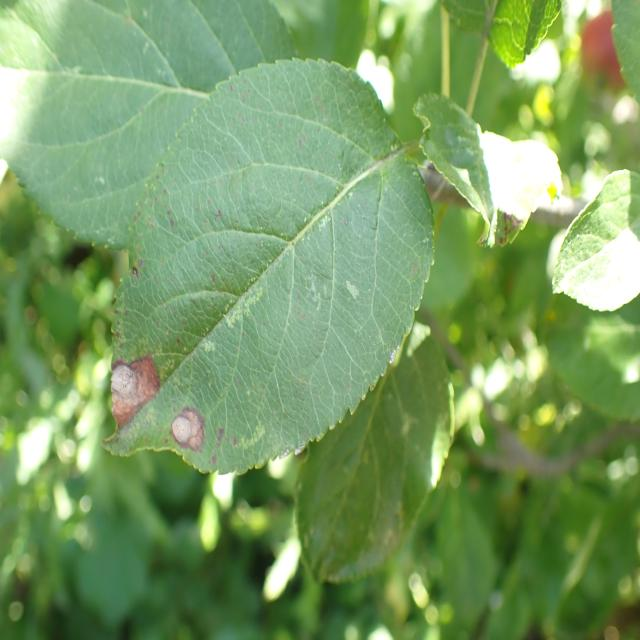frog-eye-leaf-spot: (100, 57, 436, 480)
